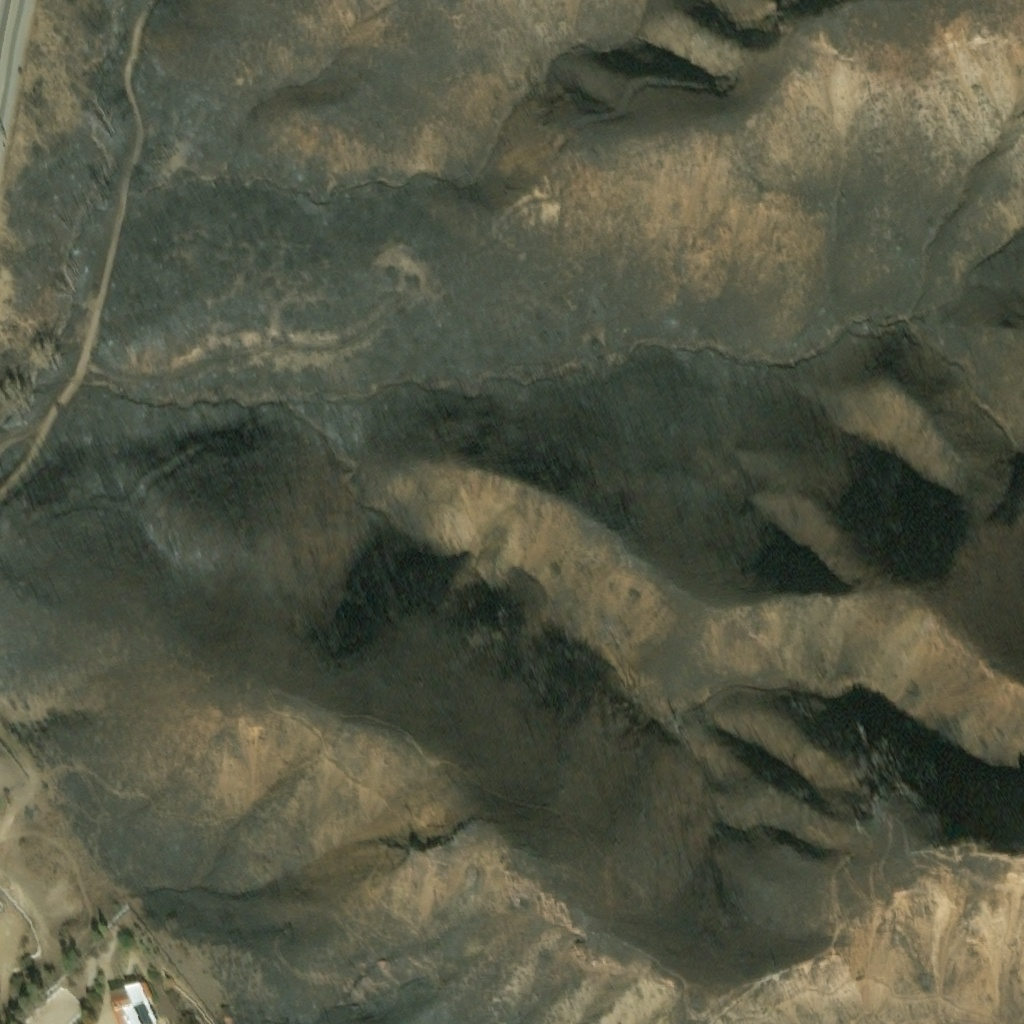0 no-damage: (109, 982, 157, 1023)
